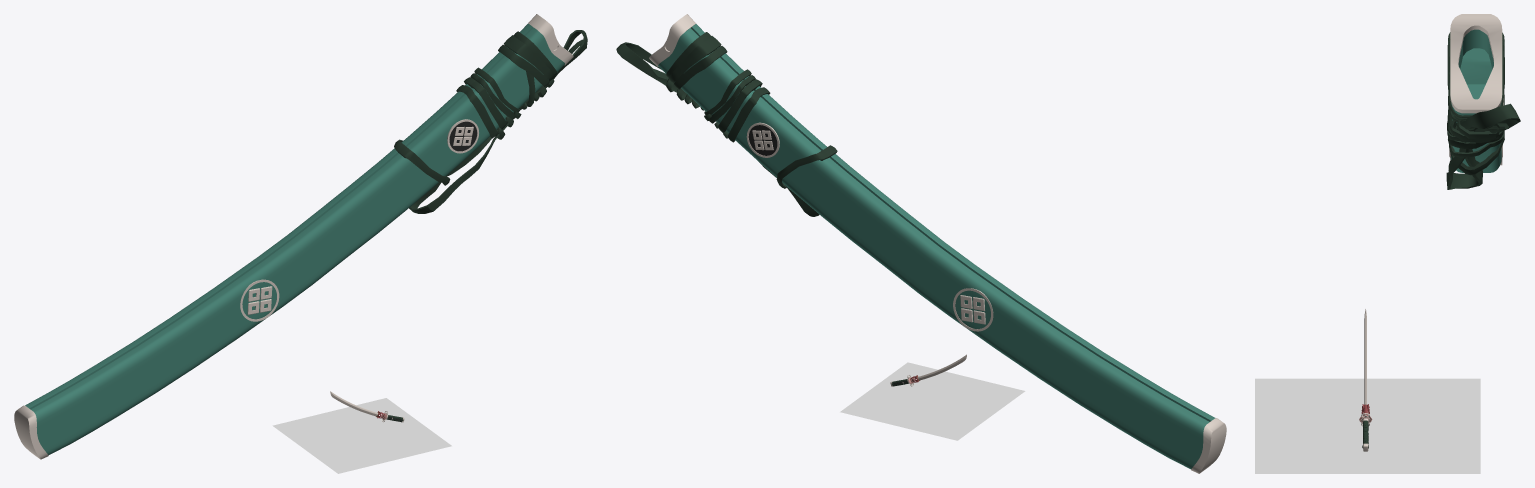
The model's file is valorant_katana.glb.
The picture shows the model from 3 angles, left to right: view 1: azimuth 30°, elevation 25°; view 2: azimuth 150°, elevation 25°; view 3: azimuth 270°, elevation 25°; orthographic projection. The views are drawn at different scales.
Visible parts, largest first — view 1: Object_14, Plane, Object_25, Object_27, Object_31, Object_21, Object_19, Object_16; view 2: Object_14, Plane, Object_25, Object_27, Object_21, Object_31, Object_19, Object_16; view 3: Plane, Object_16, Object_14, Object_31, Object_29, Object_27, Object_25.
Part boxes in pixels (<box>): Object_14: <box>25,23,564,455</box>; Plane: <box>272,398,451,473</box>; Object_25: <box>456,31,556,138</box>; Object_27: <box>394,35,554,185</box>; Object_31: <box>409,30,587,213</box>; Object_21: <box>240,119,478,321</box>; Object_19: <box>14,405,48,459</box>; Object_16: <box>528,14,573,65</box>; Object_14: <box>658,24,1215,469</box>; Plane: <box>840,362,1025,440</box>; Object_25: <box>666,32,770,142</box>; Object_27: <box>668,36,837,188</box>; Object_21: <box>746,122,993,331</box>; Object_31: <box>616,42,819,216</box>; Object_19: <box>1191,418,1226,473</box>; Object_16: <box>649,14,696,66</box>; Plane: <box>1255,378,1480,473</box>; Object_16: <box>1450,14,1502,113</box>; Object_14: <box>1451,29,1501,172</box>; Object_31: <box>1446,103,1520,189</box>; Object_29: <box>1447,120,1503,157</box>; Object_27: <box>1447,34,1504,175</box>; Object_25: <box>1447,32,1504,142</box>.
Size of the model in its own units: 10.04 by 5.75 by 2.36.
